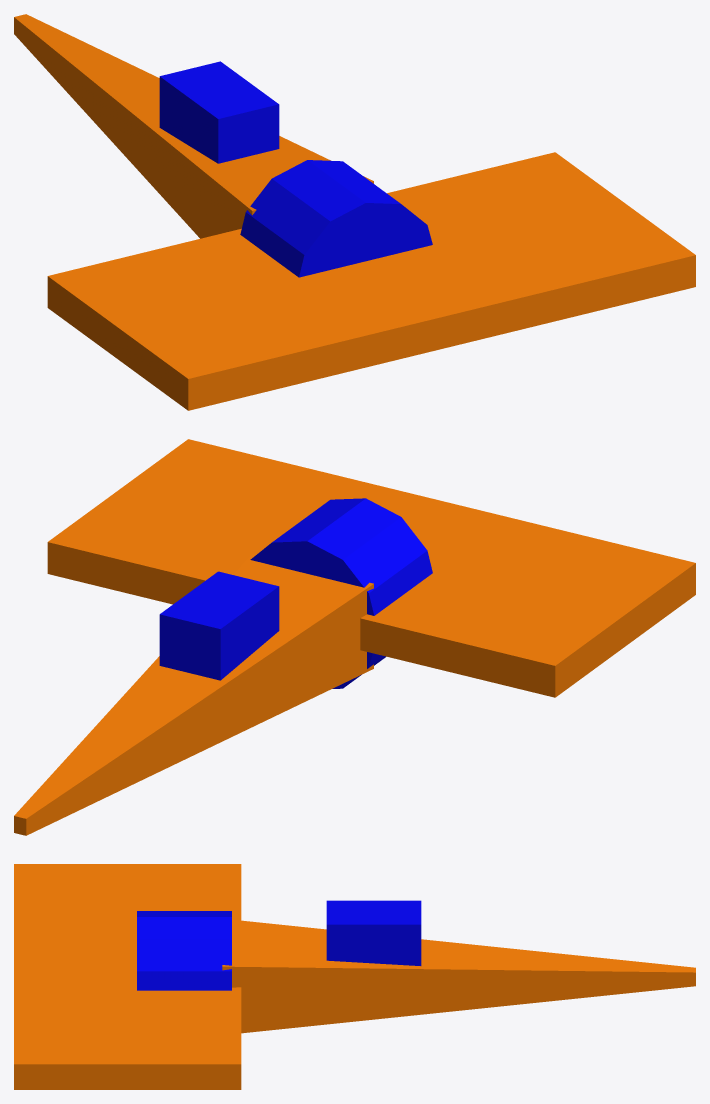
The model's file is space_ship.obj.
3 views of the same model, one above another, from view 1: azimuth 30°, elevation 25°; view 2: azimuth 150°, elevation 25°; view 3: azimuth 270°, elevation 25° (orthographic). The views are drawn at different scales.
Visible parts, largest first — view 1: Spaceship_Orange; view 2: Spaceship_Orange; view 3: Spaceship_Orange.
Part boxes in pixels (x1,y1,x2,y2): Spaceship_Orange: (14,14,695,410); Spaceship_Orange: (14,439,695,835); Spaceship_Orange: (14,864,695,1089).
Size of the model in its own units: 2.5 by 0.725 by 3.6.
